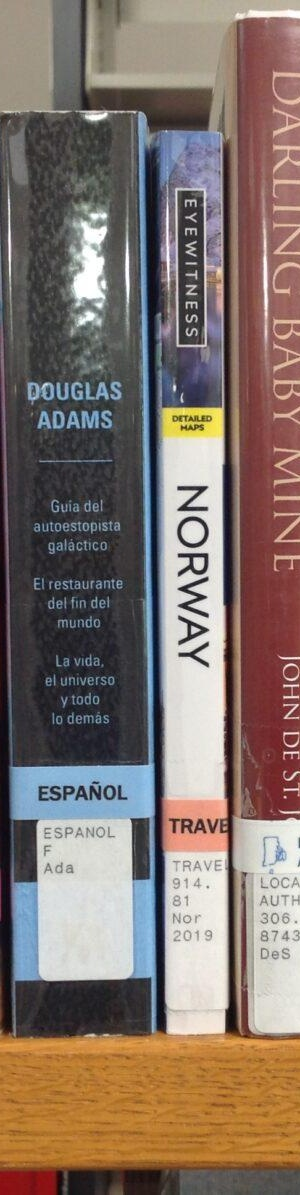call_number: (35, 817, 131, 979), (162, 845, 226, 1010), (243, 867, 300, 1014)
